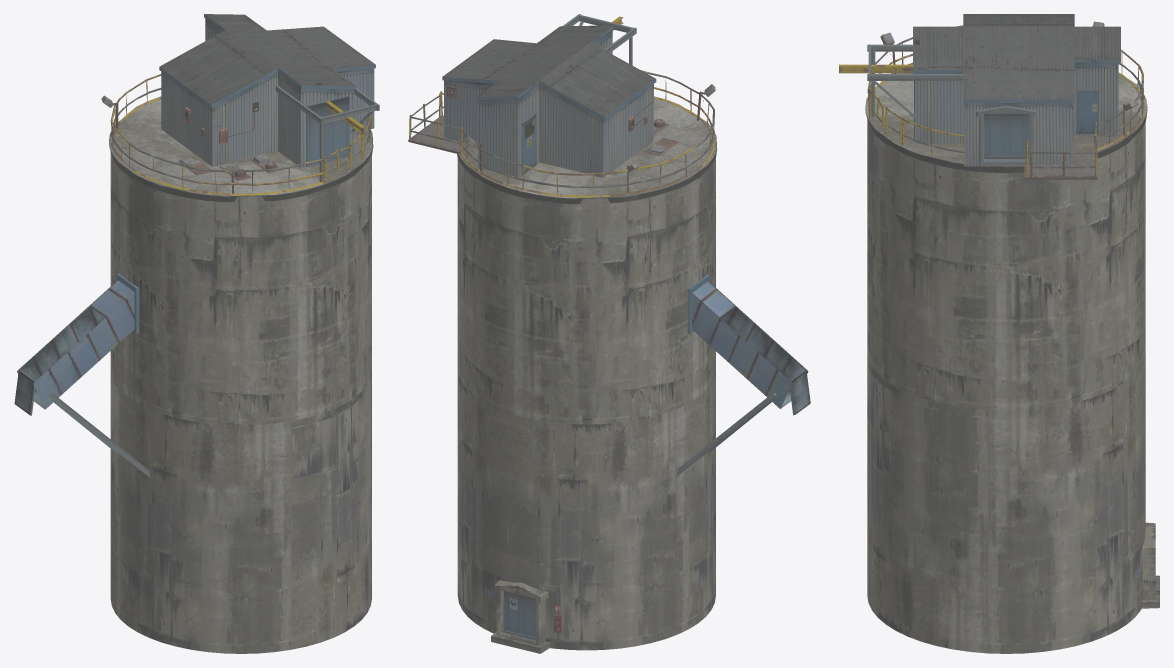
File: tls-stackyad-1.glb
3 views of the same model, side by side, from view 1: azimuth 30°, elevation 25°; view 2: azimuth 150°, elevation 25°; view 3: azimuth 270°, elevation 25° (orthographic). The views are drawn at different scales.
Visible parts, largest first — view 1: 5L_ConcreteSilo_00; view 2: 5L_ConcreteSilo_00; view 3: 5L_ConcreteSilo_00.
Part boxes in pixels (left/top/right/bottom): 5L_ConcreteSilo_00: left=14, top=14, right=379, bottom=653; 5L_ConcreteSilo_00: left=408, top=14, right=810, bottom=653; 5L_ConcreteSilo_00: left=839, top=14, right=1159, bottom=653.
Bounding box in the file's own units: 15.09 × 21.83 × 11.
Materials: 1 (1 with a texture image).
